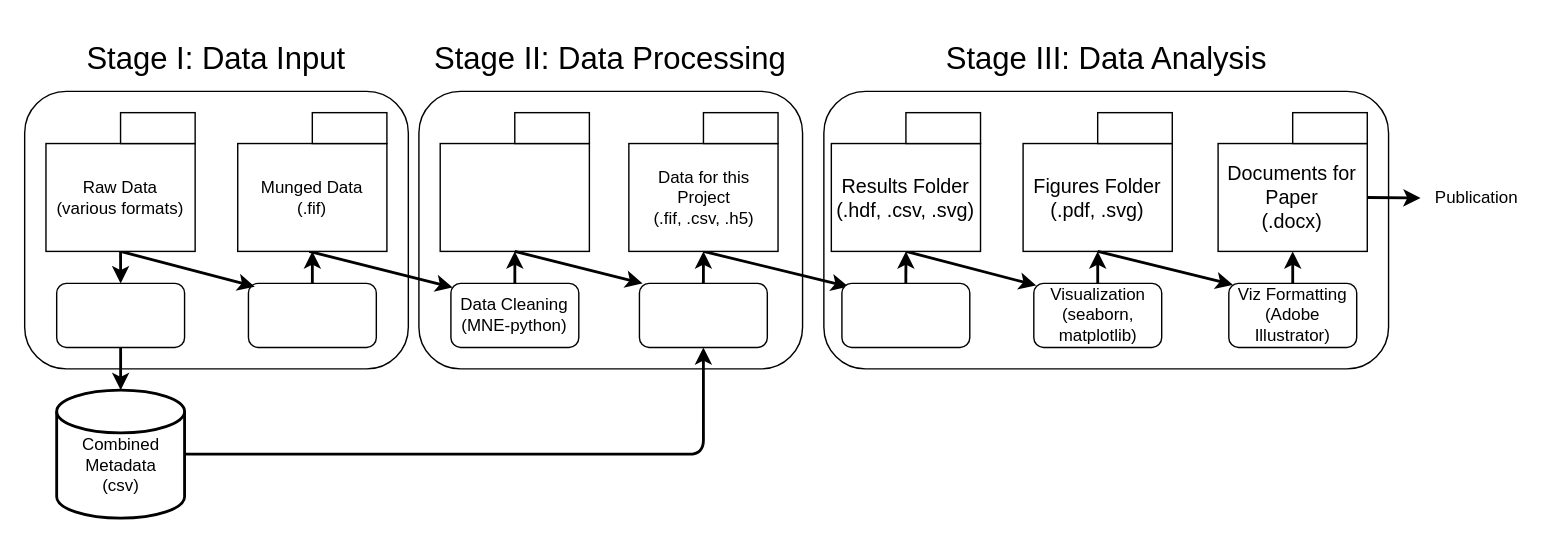
Image size: 1558x543. Some labels were removed from this diagram. Each missing label, with the centre of its shape:
Analysis (scikit-learn, statsmodels): [905,314]
Clean Data (.fif): [514,196]
Feature Extraction (MNE, scipy): [702,314]
Manual Munging (pandas): [311,314]
Standardize Metadata: [120,314]
